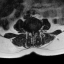CCS_severe_stenosis: (32, 29, 34, 36)
LFS_severe_stenosis: (35, 28, 37, 34)
LLS_severe_stenosis: (34, 29, 35, 34)
RFS_severe_stenosis: (28, 28, 30, 33)
RLS_severe_stenosis: (30, 29, 32, 34)
